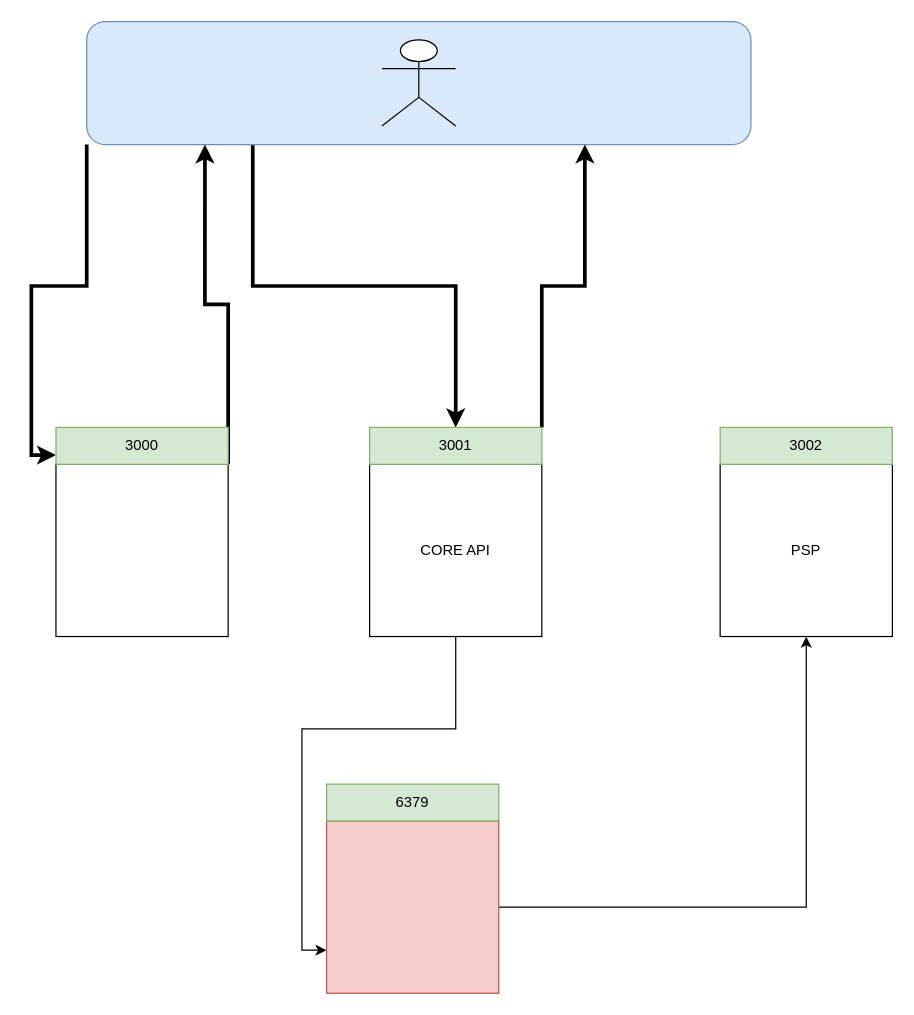
Some shapes in this 914 by 1015 pixel diagram are drawn without their labels. Each missing label, with the centre of its shape:
"AUTH API" goes at (141,550).
"Merchant" goes at (418,82).
"REDIS" goes at (412,906).
